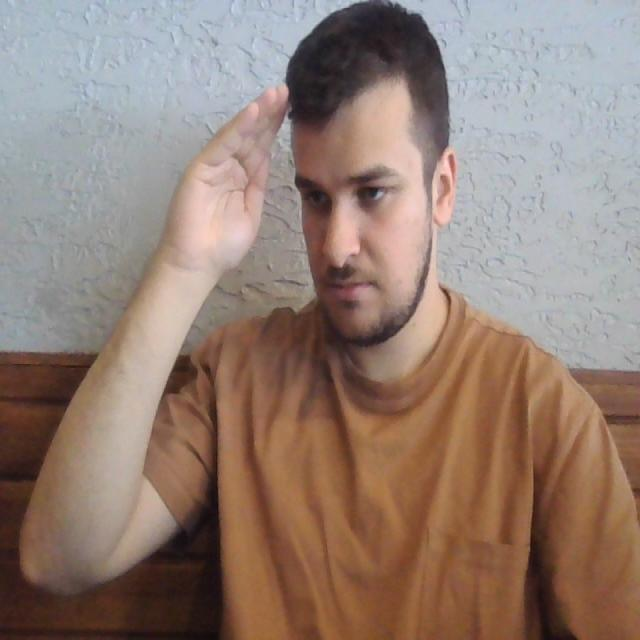Merhaba: (175, 53, 329, 314)
